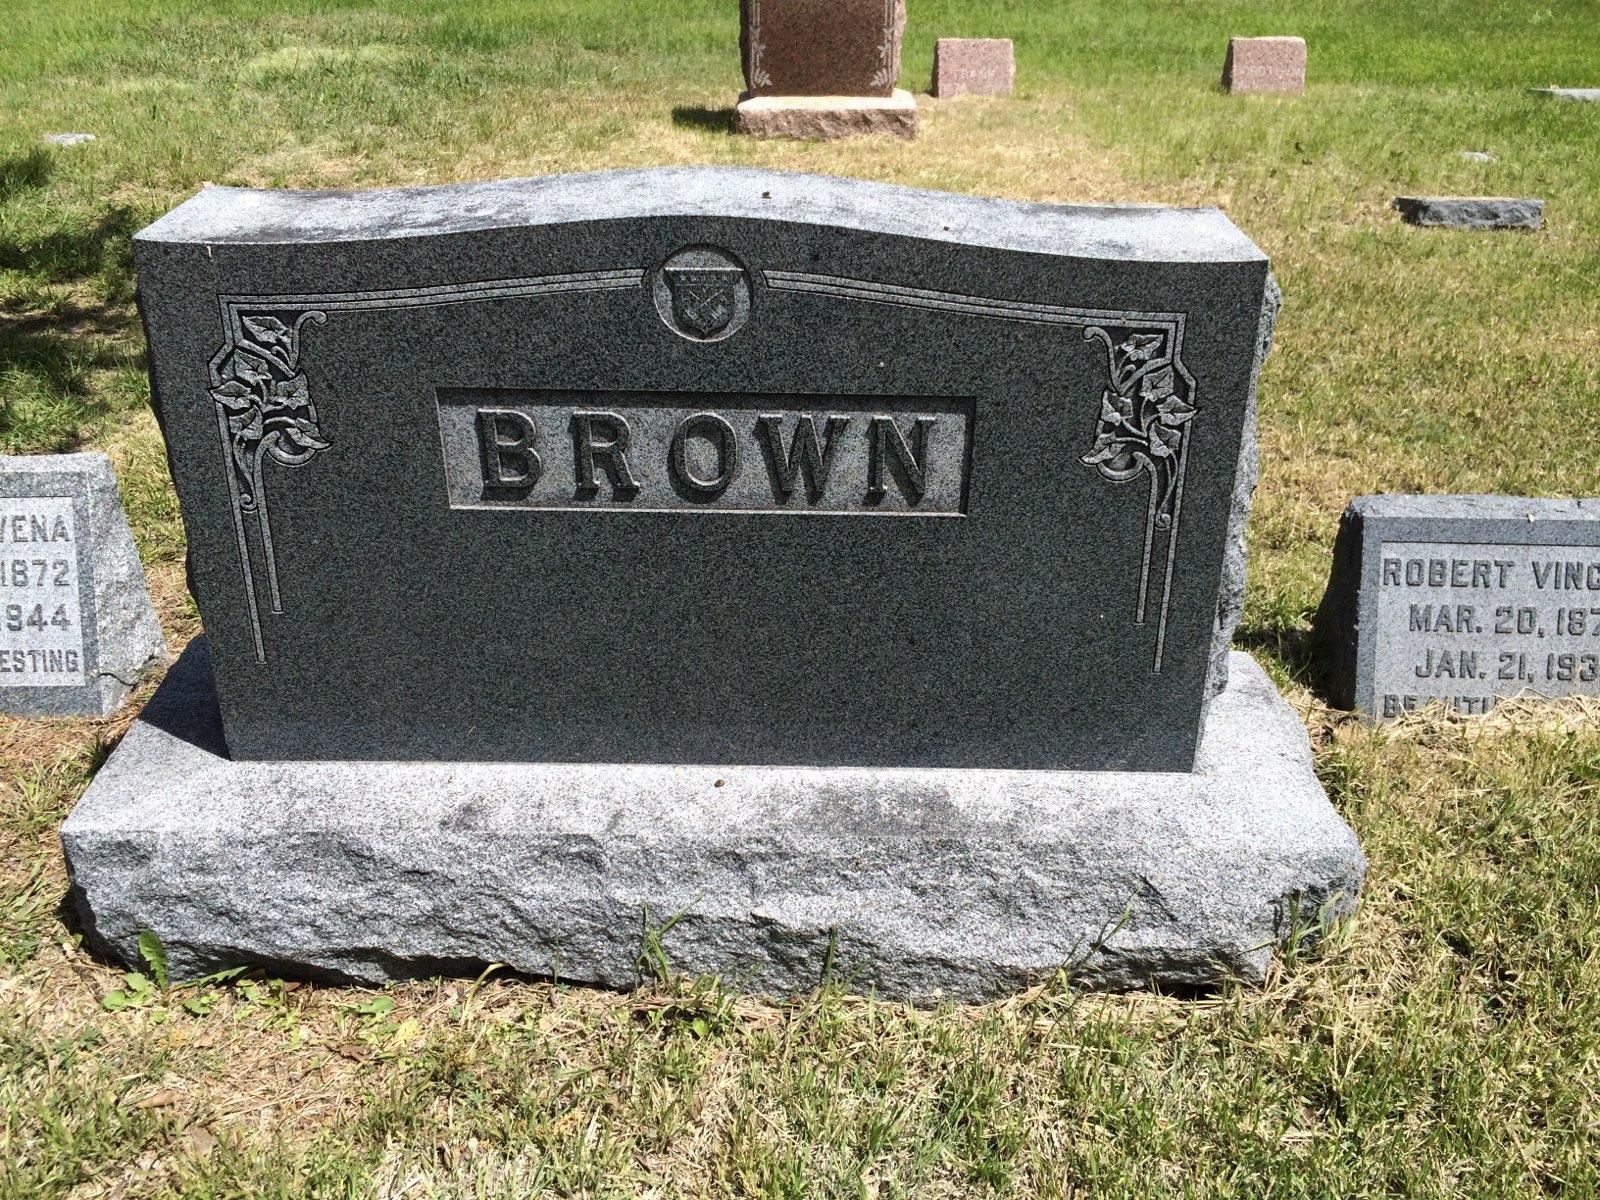upright: (48, 151, 1371, 1005)
